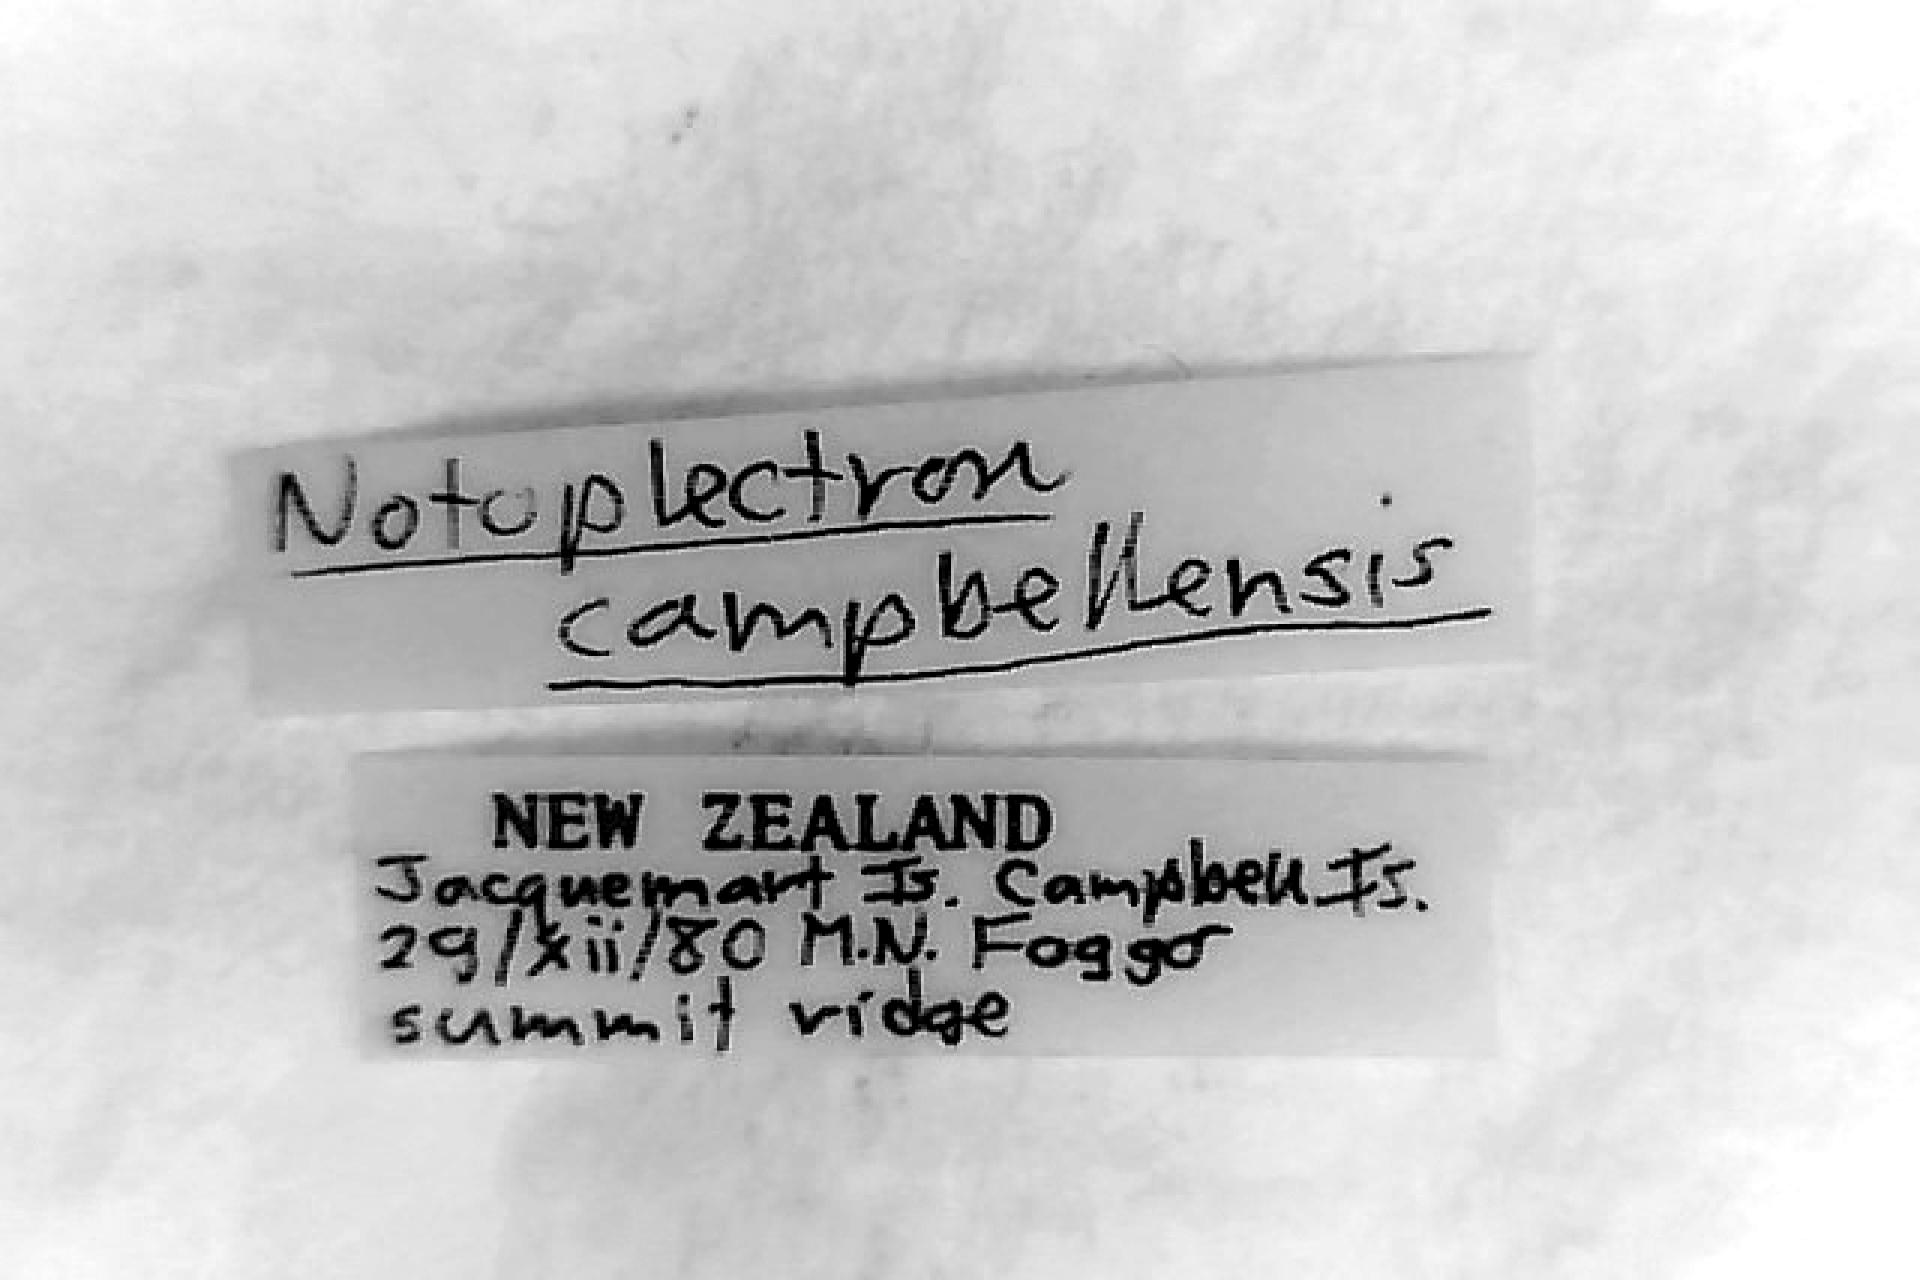hand_label: (236, 357, 1530, 709)
mixed_label: (356, 753, 1493, 1051)
